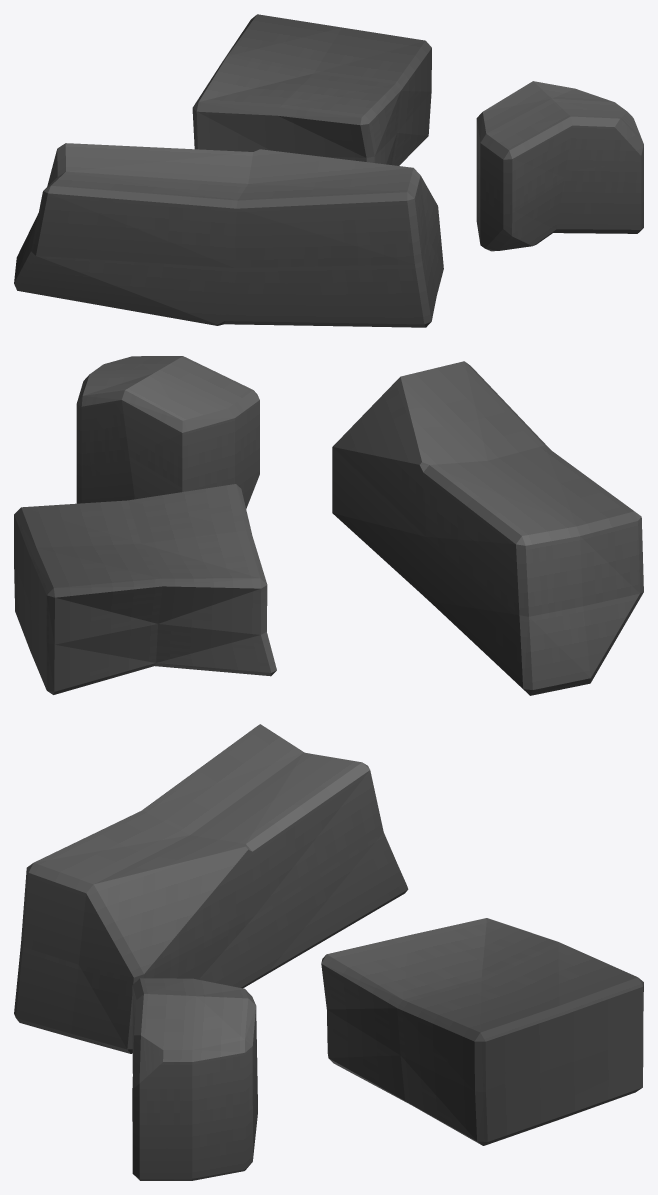
Rendered from entulho.glb.
3 views of the same model, one above another, from view 1: azimuth 30°, elevation 25°; view 2: azimuth 150°, elevation 25°; view 3: azimuth 270°, elevation 25° (orthographic). The views are drawn at different scales.
Visible parts, largest first — view 1: RuinedWallRubbleA; view 2: RuinedWallRubbleA; view 3: RuinedWallRubbleA.
Boxes of the visible parts, box(x1,y1,x2,y2) form: RuinedWallRubbleA: box(14, 14, 643, 327); RuinedWallRubbleA: box(14, 356, 643, 695); RuinedWallRubbleA: box(14, 724, 643, 1180).
Bounding box in the file's own units: 2.36 × 0.5928 × 2.05.
1 material, 1 textured.
